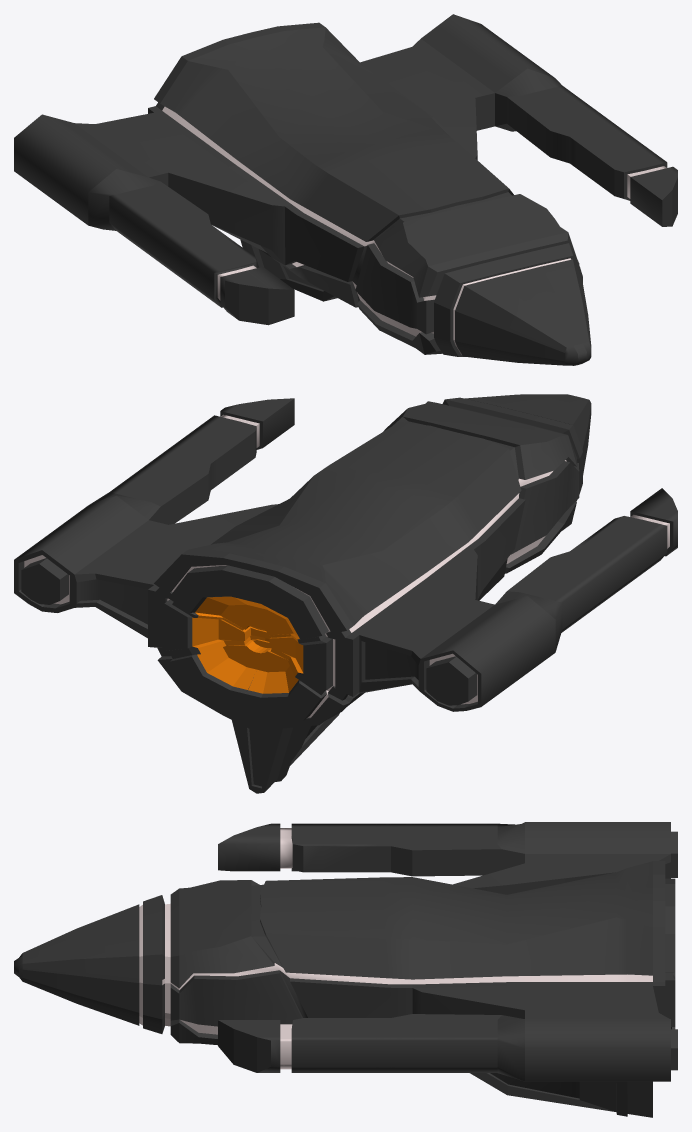
Rendered from Navicella_2.fbx.
3 views of the same model, one above another, from view 1: azimuth 30°, elevation 25°; view 2: azimuth 150°, elevation 25°; view 3: azimuth 270°, elevation 25° (orthographic).
Parts seen in each view (by area): view 1: pCube3; view 2: pCube3; view 3: pCube3.
Boxes of the visible parts, box(x1,y1,x2,y2) form: pCube3: box(14, 14, 677, 365); pCube3: box(14, 394, 677, 793); pCube3: box(14, 822, 677, 1117).
Size of the model in its own units: 477 by 229 by 599.
